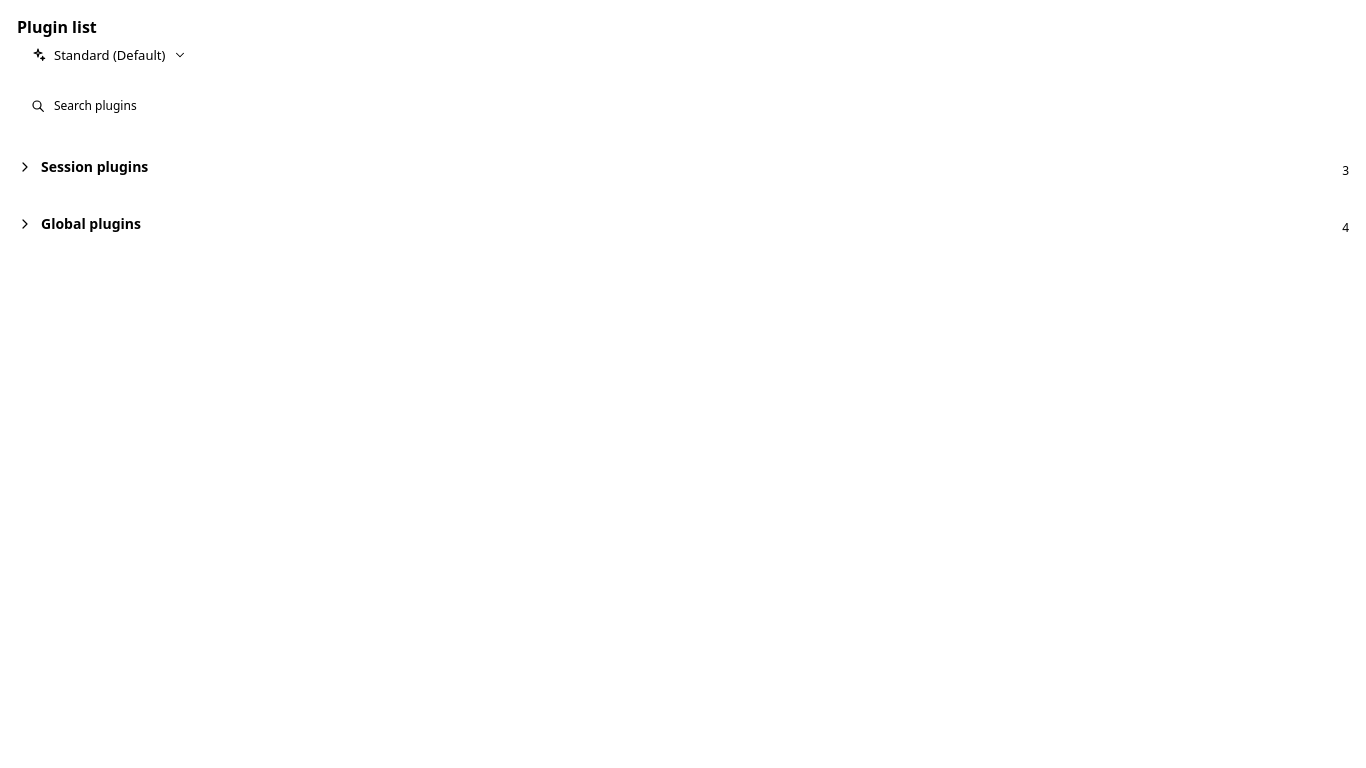
Test: PluginInventory › expands a plugin card into its details and exposes a valid disclosure relationship
The width and height of the screenshot is (1366, 768).
Click the button "Global plugins". click: (91, 223)
box: x1=17 y1=208 x2=1334 y2=240
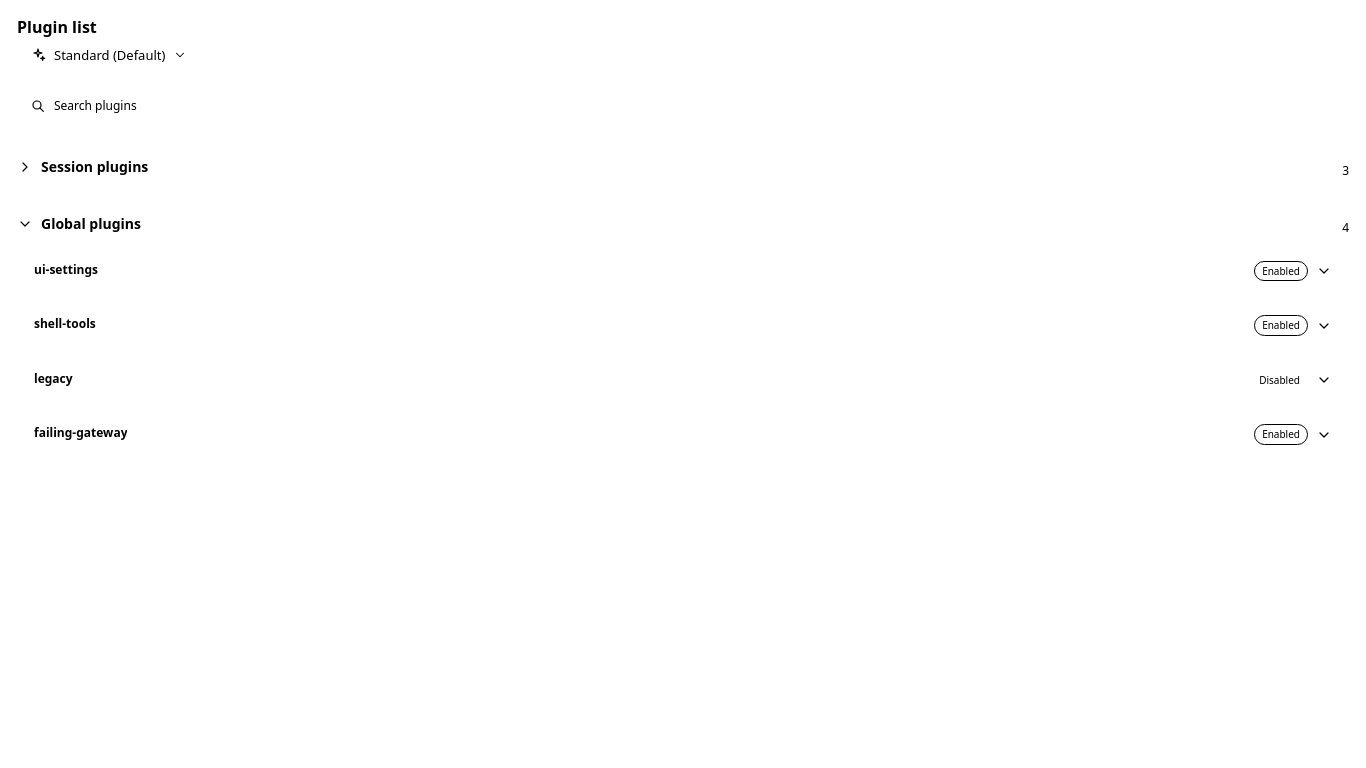
Click the button "ui-settings Enabled". click: (66, 269)
box: x1=18 y1=249 x2=1348 y2=293
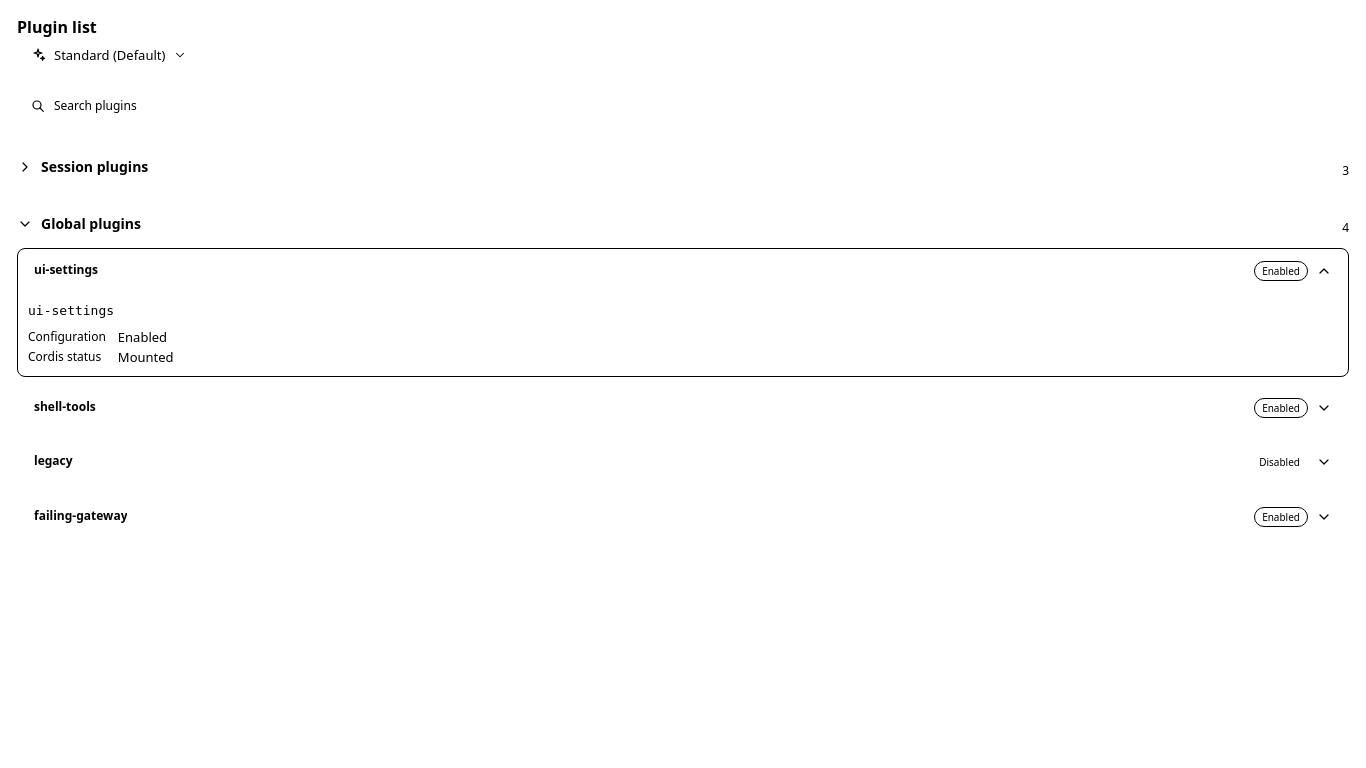
Expected: the button "ui-settings Enabled" is expanded
Expected: the 2nd text "ui-settings" is shown, x1=28 y1=303 x2=114 y2=318
Expected: the text "Mounted" is shown, x1=118 y1=348 x2=174 y2=366
Click the button "ui-settings Enabled". click: (66, 269)
box: x1=18 y1=249 x2=1348 y2=293
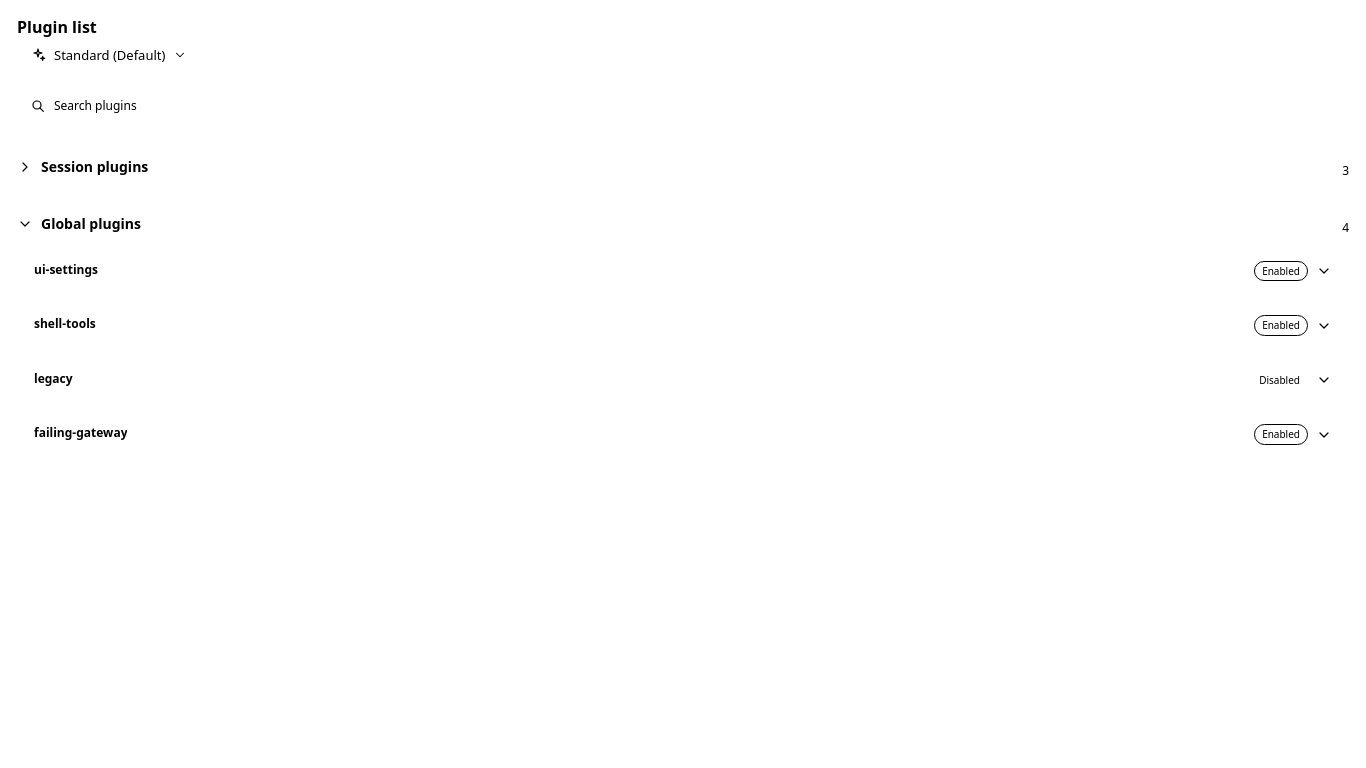
Expected: the button "ui-settings Enabled" is collapsed, x1=18 y1=249 x2=1348 y2=293
